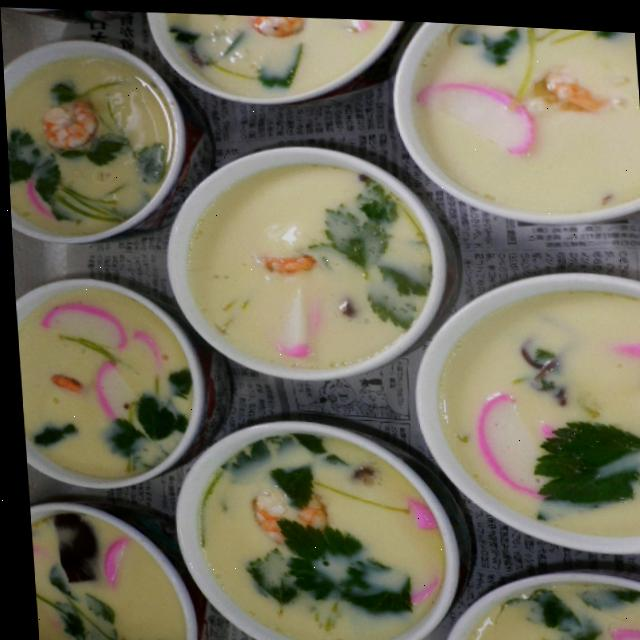鸡蛋料理: (152, 120, 451, 387)
